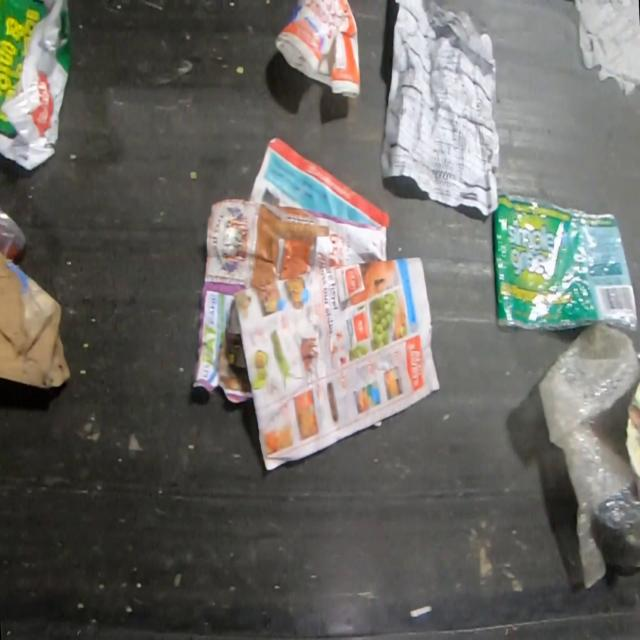cardboard: (0, 248, 71, 391)
rigid_plastic: (272, 0, 361, 100), (0, 209, 27, 260)
soft_plastic: (537, 324, 640, 591), (491, 190, 638, 333)
